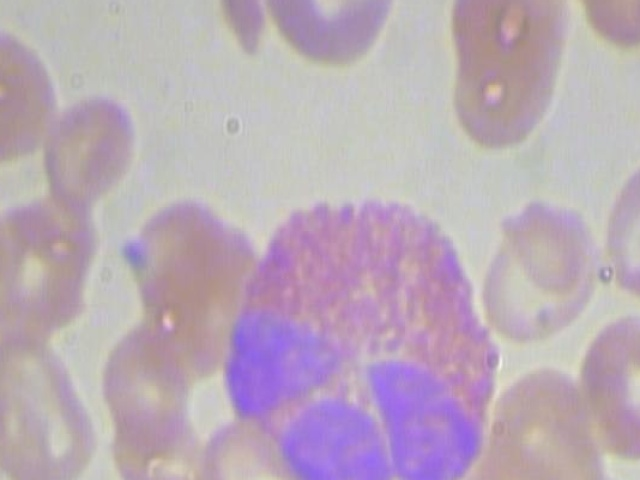RBC: (468, 182, 605, 340), (438, 0, 566, 159), (248, 0, 408, 78), (43, 80, 135, 203), (0, 21, 59, 184), (598, 151, 640, 311)
WBC: (209, 186, 504, 480)
